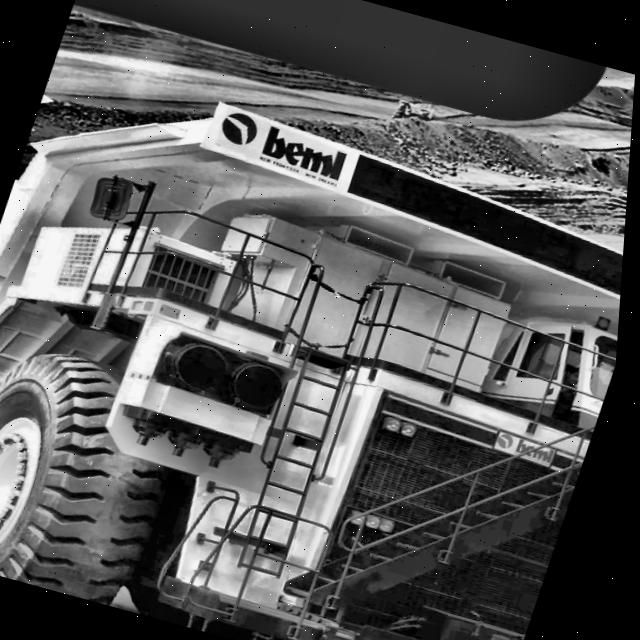dump_truck: (0, 68, 636, 640)
